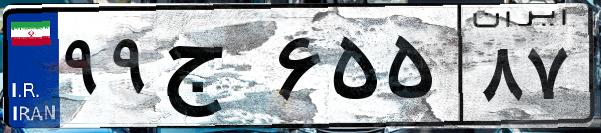5: (385, 28, 445, 110), (330, 28, 385, 110)
6: (270, 28, 330, 110)
7: (525, 38, 570, 115)
8: (475, 38, 525, 113)
9: (57, 26, 110, 100), (110, 28, 158, 98)
ج: (158, 20, 270, 120)
